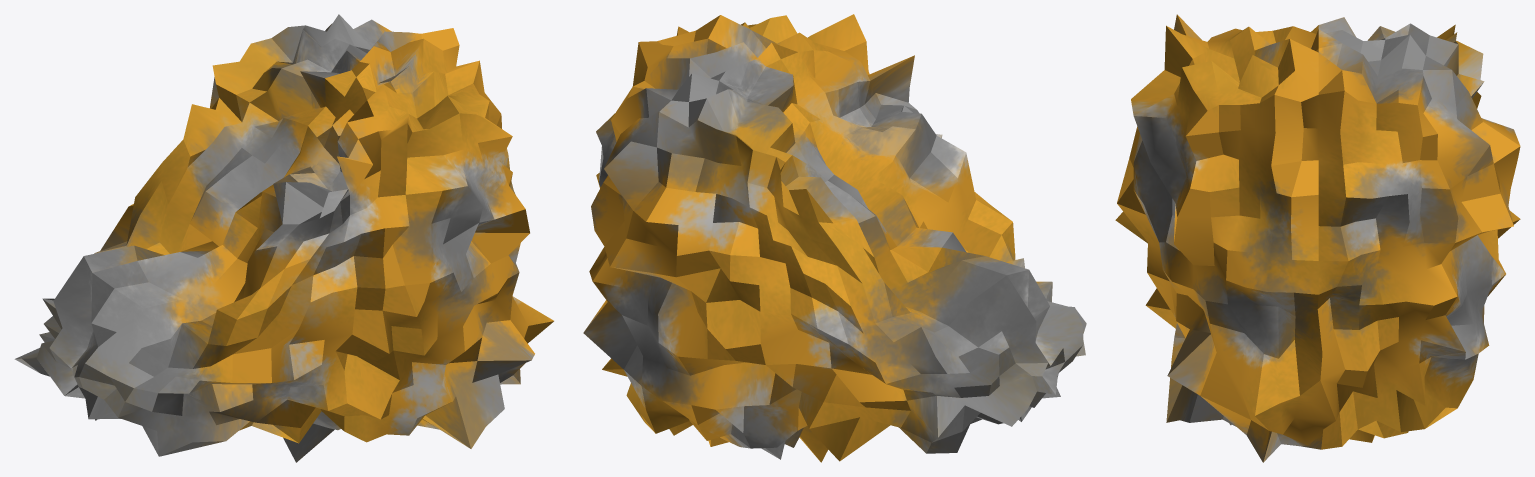
Rendered from RutiloHematita.fbx.
3 views of the same model, side by side, from view 1: azimuth 30°, elevation 25°; view 2: azimuth 150°, elevation 25°; view 3: azimuth 270°, elevation 25° (orthographic). The views are drawn at different scales.
Visible parts, largest first — view 1: RutiloHematita; view 2: RutiloHematita; view 3: RutiloHematita.
Boxes of the visible parts, left/top/right/bottom form: RutiloHematita: left=14, top=14, right=553, bottom=462; RutiloHematita: left=583, top=14, right=1086, bottom=462; RutiloHematita: left=1115, top=14, right=1520, bottom=462.
Size of the model in its own units: 91.87 by 76.32 by 64.75.
